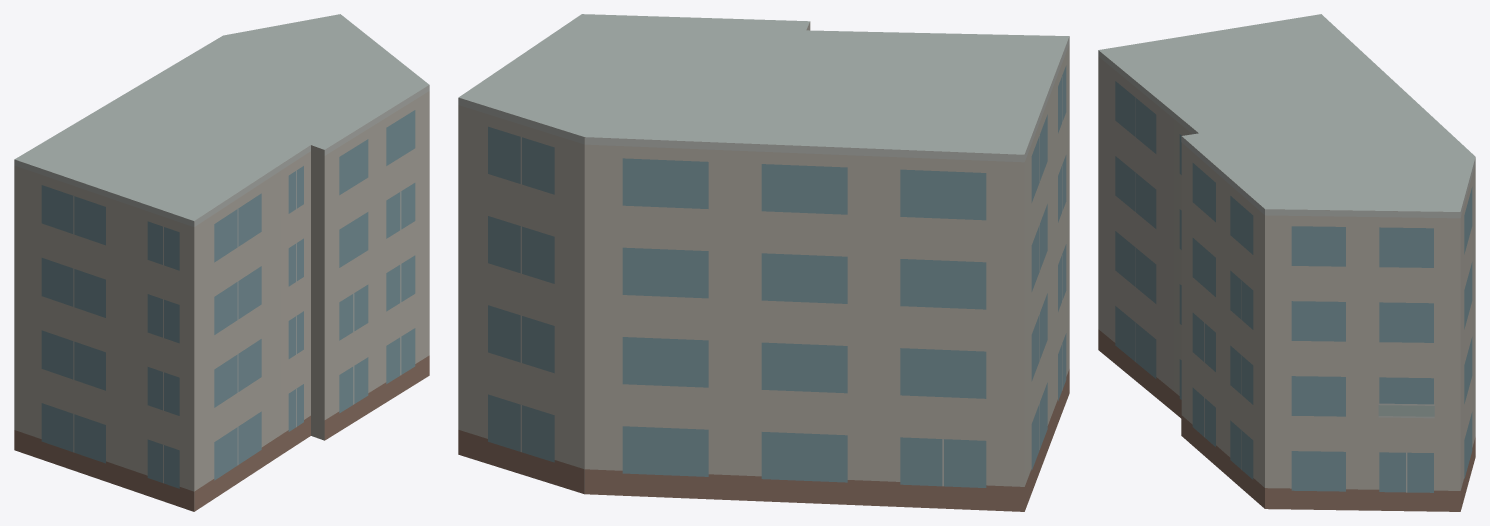
The model's file is survey-upis-32495311.glb.
3 views of the same model, side by side, from view 1: azimuth 30°, elevation 25°; view 2: azimuth 150°, elevation 25°; view 3: azimuth 270°, elevation 25° (orthographic). The views are drawn at different scales.
Parts seen in each view (by area): view 1: survey-upis-32495311.tmp; view 2: survey-upis-32495311.tmp; view 3: survey-upis-32495311.tmp.
Part boxes in pixels (x1,y1,x2,y2): survey-upis-32495311.tmp: (14,14,429,511); survey-upis-32495311.tmp: (458,14,1069,511); survey-upis-32495311.tmp: (1098,14,1475,511).
Bounding box in the file's own units: 16.44 × 11.6 × 13.24.
